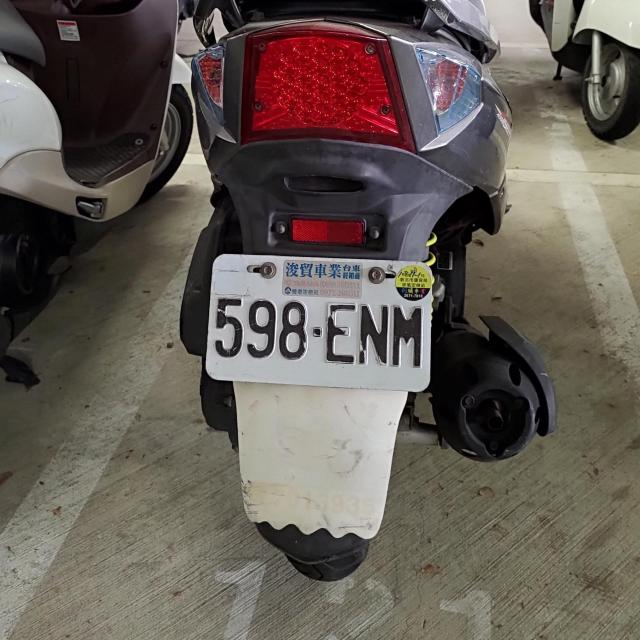W: (208, 252, 439, 390)
